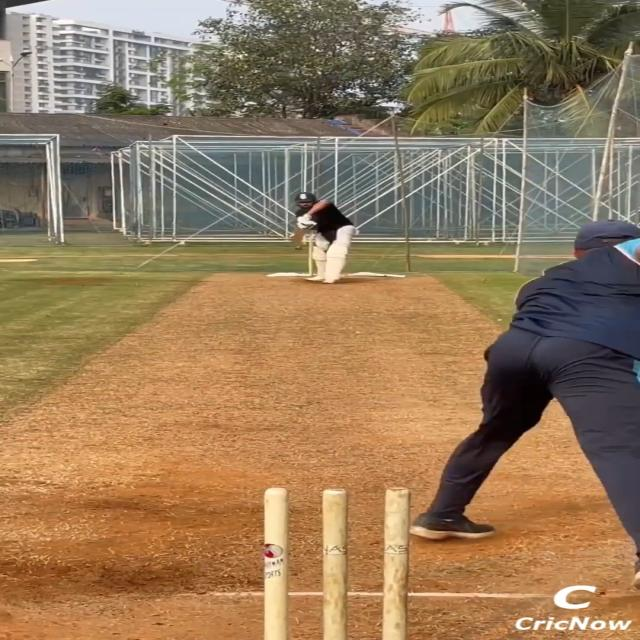stump: (261, 484, 410, 640)
